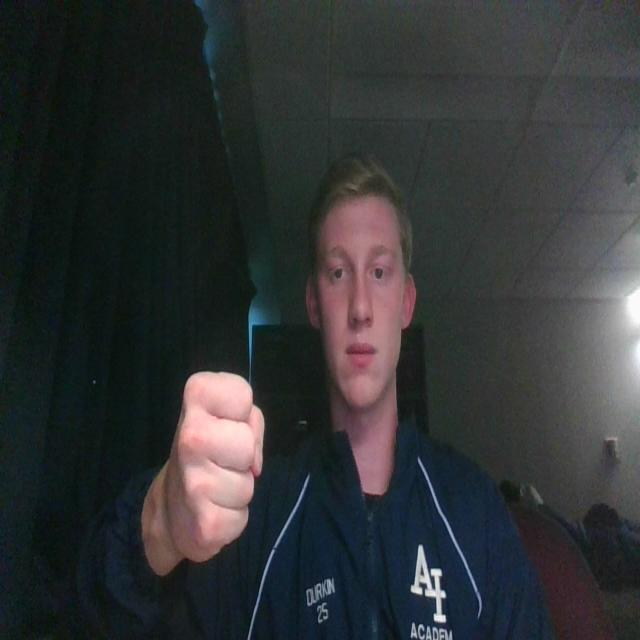rock: (159, 358, 269, 580)
